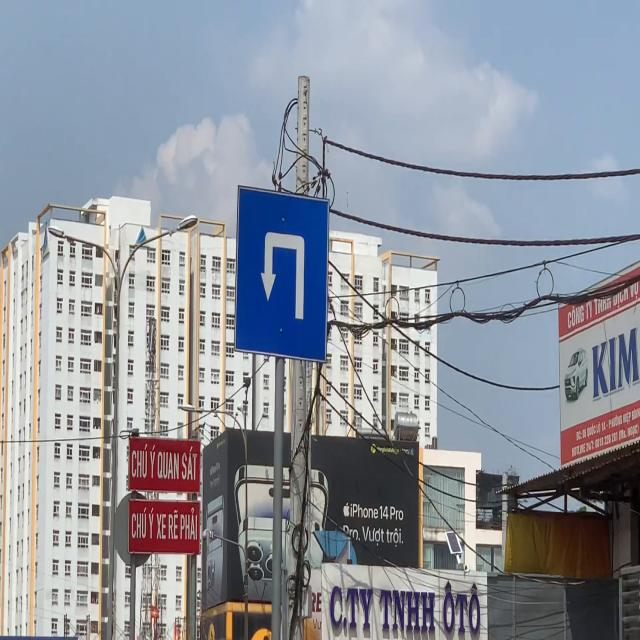Chi dan: (236, 182, 328, 366)
